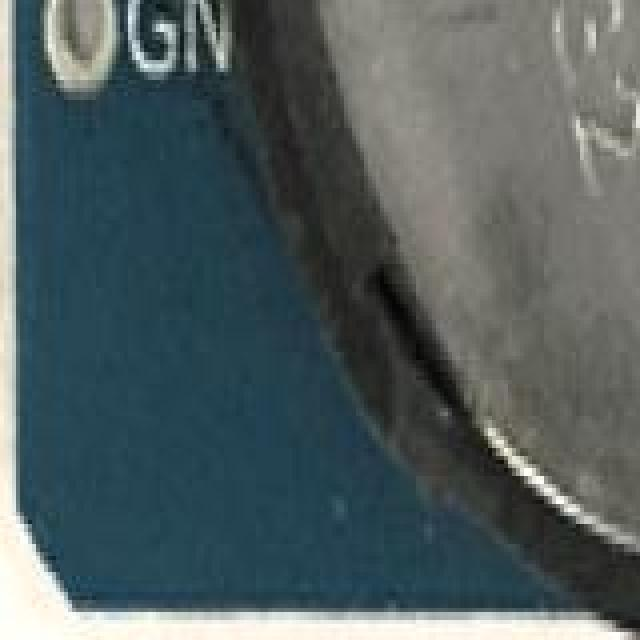battery: (272, 0, 640, 552)
